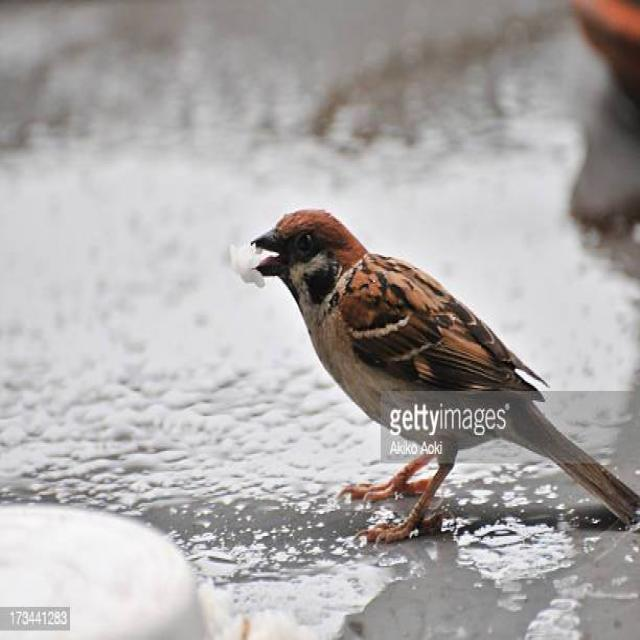bird: (249, 206, 640, 544)
